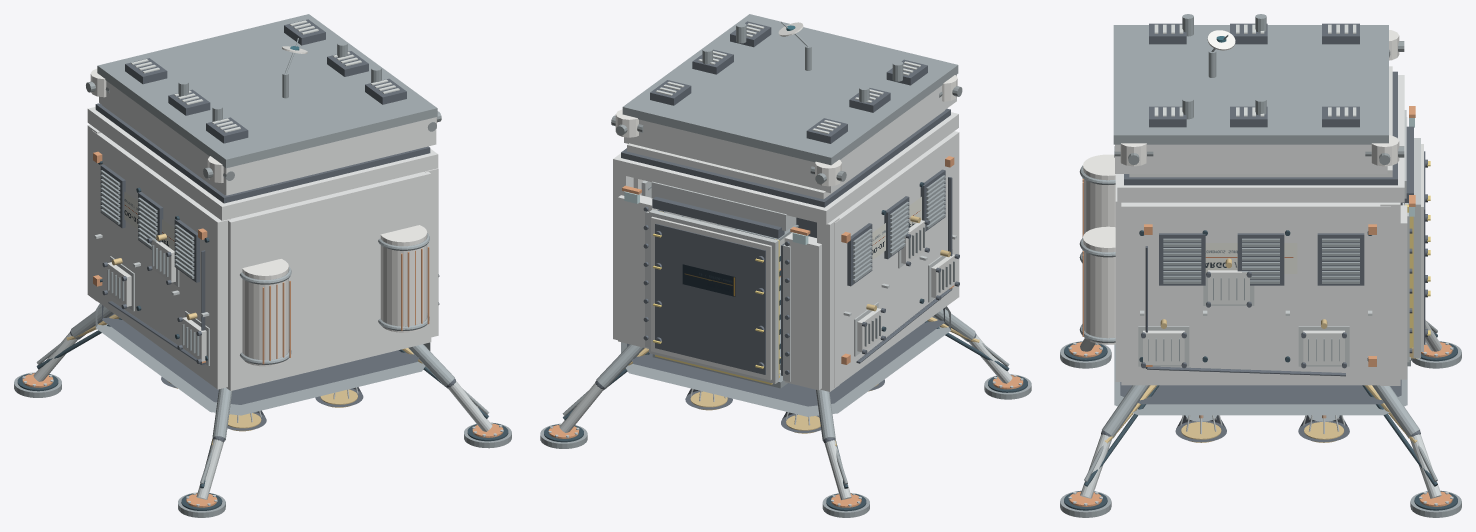
The model's file is Cargo_Lander.glb.
The picture shows the model from 3 angles, left to right: view 1: azimuth 30°, elevation 25°; view 2: azimuth 150°, elevation 25°; view 3: azimuth 270°, elevation 25°; orthographic projection. The views are drawn at different scales.
Visible parts, largest first — view 1: Cargo_hull_root_03, Cargo_steel_root_00, Cargo_dark_root_01, Cargo_white_root_11, Cargo_orange_root_08, Cargo_edge_root_02, Cargo_warm_root_04, Cargo_black_root_05, Cargo_gold_root_10, Cargo_silver_root_09, Cargo_engine_root_12, Cargo_Marking_01; view 2: Cargo_hull_root_03, Cargo_steel_root_00, Cargo_dark_root_01, Cargo_dark_CargoRampPivot_17, Cargo_edge_root_02, Cargo_warm_root_04, Cargo_edge_CargoRampPivot_15, Cargo_warm_CargoRampPivot_16, Cargo_white_root_11, Cargo_gold_root_10, Cargo_orange_root_08, Cargo_black_root_05 (+4 smaller); view 3: Cargo_hull_root_03, Cargo_steel_root_00, Cargo_dark_root_01, Cargo_white_root_11, Cargo_warm_root_04, Cargo_edge_root_02, Cargo_black_root_05, Cargo_orange_root_08, Cargo_gold_root_10, Cargo_edge_CargoRampPivot_15, Cargo_Marking_00, Cargo_silver_root_09 (+4 smaller).
Boxes of the visible parts, x1,y1,x2,y2 form: Cargo_hull_root_03: (87, 81, 438, 390); Cargo_steel_root_00: (14, 14, 511, 517); Cargo_dark_root_01: (70, 19, 455, 442); Cargo_white_root_11: (90, 46, 436, 366); Cargo_orange_root_08: (22, 151, 503, 507); Cargo_edge_root_02: (22, 234, 503, 506); Cargo_warm_root_04: (102, 105, 224, 361); Cargo_black_root_05: (17, 161, 508, 510); Cargo_gold_root_10: (66, 233, 425, 445); Cargo_silver_root_09: (131, 20, 399, 132); Cargo_engine_root_12: (36, 81, 489, 483); Cargo_Marking_01: (124, 192, 174, 250); Cargo_hull_root_03: (613, 74, 959, 391); Cargo_steel_root_00: (540, 14, 1031, 517); Cargo_dark_root_01: (595, 21, 976, 442); Cargo_dark_CargoRampPivot_17: (654, 223, 765, 374); Cargo_edge_root_02: (548, 180, 1023, 506); Cargo_warm_root_04: (627, 110, 955, 352); Cargo_edge_CargoRampPivot_15: (649, 209, 778, 383); Cargo_warm_CargoRampPivot_16: (651, 216, 771, 380); Cargo_white_root_11: (615, 22, 957, 186); Cargo_gold_root_10: (625, 215, 979, 446); Cargo_orange_root_08: (548, 156, 1023, 507); Cargo_black_root_05: (544, 182, 1027, 511); Cargo_hull_root_03: (1115, 75, 1407, 385); Cargo_steel_root_00: (1060, 14, 1461, 517); Cargo_dark_root_01: (1101, 23, 1420, 442); Cargo_white_root_11: (1083, 30, 1399, 344); Cargo_warm_root_04: (1129, 66, 1392, 364); Cargo_edge_root_02: (1068, 110, 1453, 505); Cargo_black_root_05: (1064, 230, 1457, 510); Cargo_orange_root_08: (1069, 106, 1452, 506); Cargo_gold_root_10: (1104, 258, 1417, 443); Cargo_edge_CargoRampPivot_15: (1405, 138, 1420, 357); Cargo_Marking_00: (1205, 243, 1297, 273); Cargo_silver_root_09: (1154, 24, 1356, 116).
Size of the model in its own units: 8.34 by 9.28 by 8.28.
Materials: 18 (3 with a texture image).
